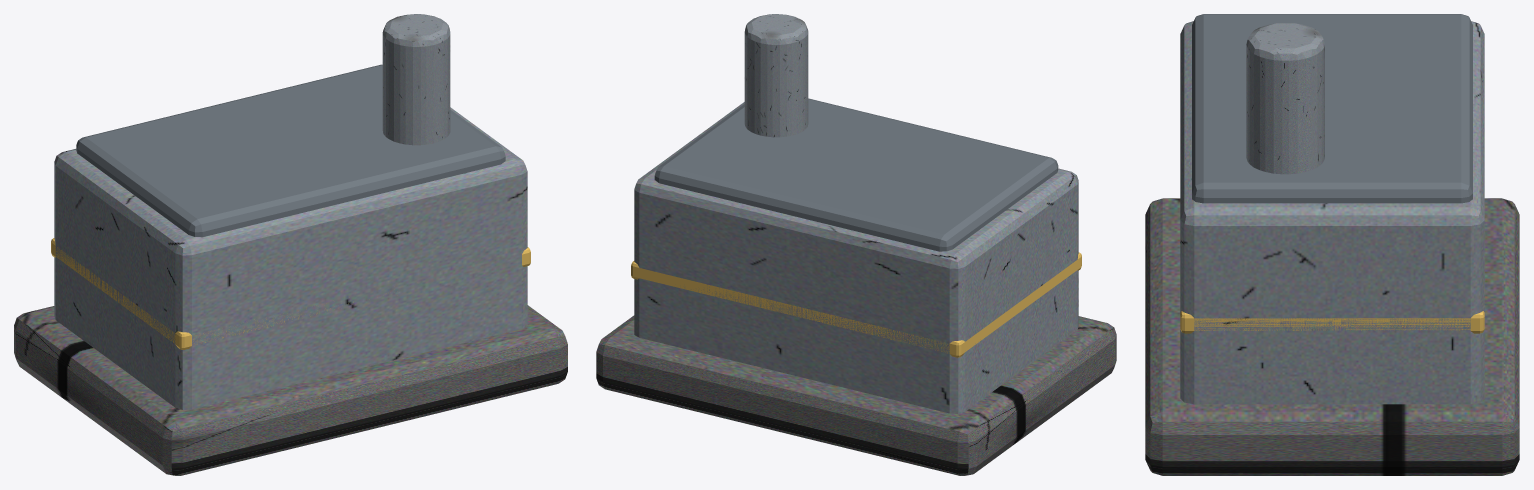
File: cover_machine.glb
3 renders of one model, left to right at view 1: azimuth 30°, elevation 25°; view 2: azimuth 150°, elevation 25°; view 3: azimuth 270°, elevation 25°, orthographic. The views are drawn at different scales.
Visible parts, largest first — view 1: CoverMachineBody, CoverMachineTop, CoverMachineBase, CoverMachineStack, CoverMachineHazard; view 2: CoverMachineBody, CoverMachineTop, CoverMachineBase, CoverMachineStack, CoverMachineHazard; view 3: CoverMachineBody, CoverMachineTop, CoverMachineBase, CoverMachineStack, CoverMachineHazard.
Boxes of the visible parts, x1,y1,x2,y2 form: CoverMachineBody: (54,107,527,409); CoverMachineTop: (76,64,505,237); CoverMachineBase: (14,305,567,475); CoverMachineStack: (382,14,450,145); CoverMachineHazard: (51,238,530,349); CoverMachineBody: (634,102,1078,413); CoverMachineTop: (654,98,1058,251); CoverMachineBase: (596,315,1116,475); CoverMachineStack: (744,14,808,137); CoverMachineHazard: (631,252,1081,357); CoverMachineBody: (1180,21,1484,404); CoverMachineTop: (1192,14,1472,203); CoverMachineBase: (1145,198,1519,475); CoverMachineStack: (1246,23,1324,174); CoverMachineHazard: (1180,311,1484,333).
Size of the model in its own units: 4.6 by 3.7 by 3.2.
4 materials, 2 textured.
